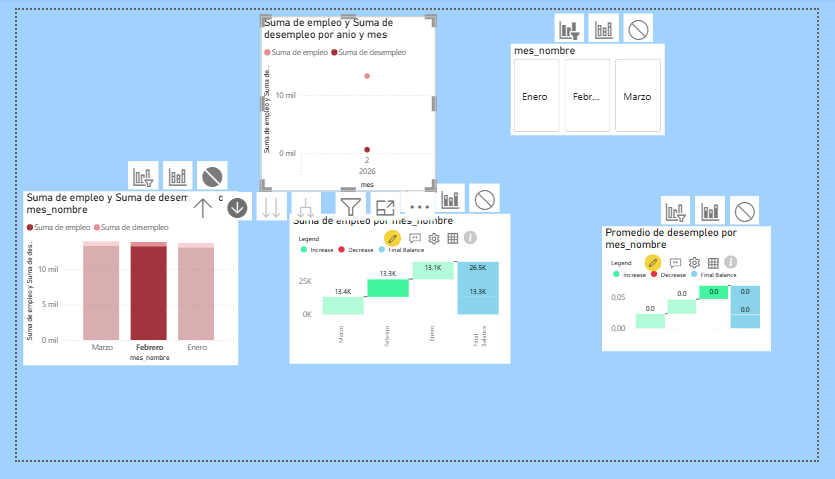

The page's visual inventory and layout, read from the dashboard file:
{"tool":"powerbi","page":{"name":"Página 4","canvas":[1280,720],"ordinal":3},"visuals":[{"type":"lineChart","fields":{"Category":["public dim_tiempo.anio","public dim_tiempo.mes"],"Y":["Sum(public fact_situacion_laboral.empleo)","Sum(public fact_situacion_laboral.desempleo)"]},"box":[390,10,280,280],"z":0},{"type":"advancedSlicerVisual","fields":{"Values":["public dim_tiempo.mes_nombre"]},"box":[790,53.3,246.7,146.7],"z":1000},{"type":"columnChart","fields":{"Y":["Sum(public fact_situacion_laboral.empleo)","Sum(public fact_situacion_laboral.desempleo)"],"Category":["public dim_tiempo.mes_nombre"]},"box":[10,290,344,278],"z":2000},{"type":"waterfallChart2AF2CCB0A5A6404AB2A02ACCE7BC300C","fields":{"category":["public dim_tiempo.mes_nombre"],"measure":["Sum(public fact_situacion_laboral.empleo)"]},"box":[436.7,326.7,353.3,240],"z":3000},{"type":"waterfallChart2AF2CCB0A5A6404AB2A02ACCE7BC300C","fields":{"category":["public dim_tiempo.mes_nombre"],"measure":["Avg(public fact_situacion_laboral.desempleo)"]},"box":[936.7,346.7,270,200],"z":4000}]}

Visuals, with their boxes in screenshot pixels (x1, y1, x2, y2), scaled from the page's 1280x720 canvas onto the 835x479 screenshot:
lineChart - public dim_tiempo.anio x public dim_tiempo.mes: x1=254 y1=7 x2=437 y2=193
advancedSlicerVisual - public dim_tiempo.mes_nombre: x1=515 y1=35 x2=676 y2=133
columnChart - Sum(public fact_situacion_laboral.empleo) x Sum(public fact_situacion_laboral.desempleo): x1=7 y1=193 x2=231 y2=378
waterfallChart2AF2CCB0A5A6404AB2A02ACCE7BC300C - public dim_tiempo.mes_nombre x Sum(public fact_situacion_laboral.empleo): x1=285 y1=217 x2=515 y2=377
waterfallChart2AF2CCB0A5A6404AB2A02ACCE7BC300C - public dim_tiempo.mes_nombre x Avg(public fact_situacion_laboral.desempleo): x1=611 y1=231 x2=787 y2=364
